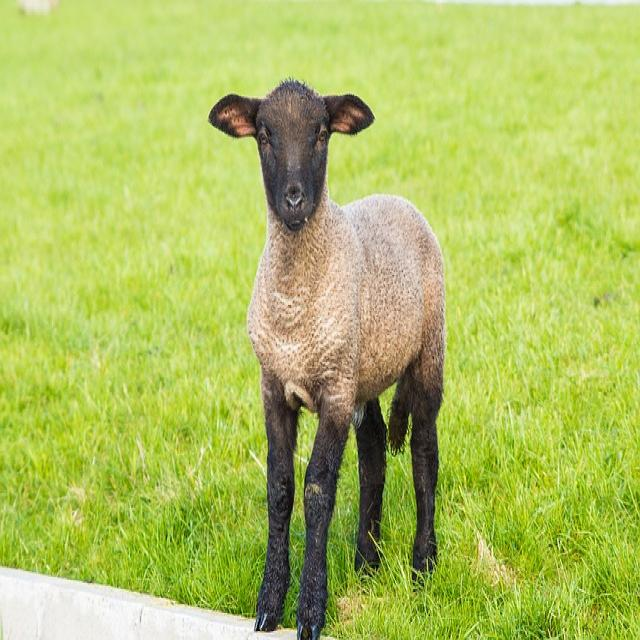goat: (207, 80, 447, 640)
